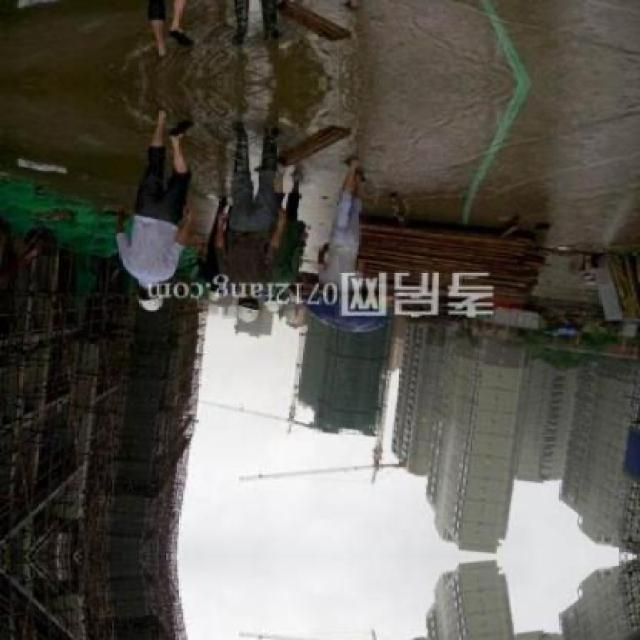con casco: (119, 263, 182, 321), (220, 270, 276, 329)
